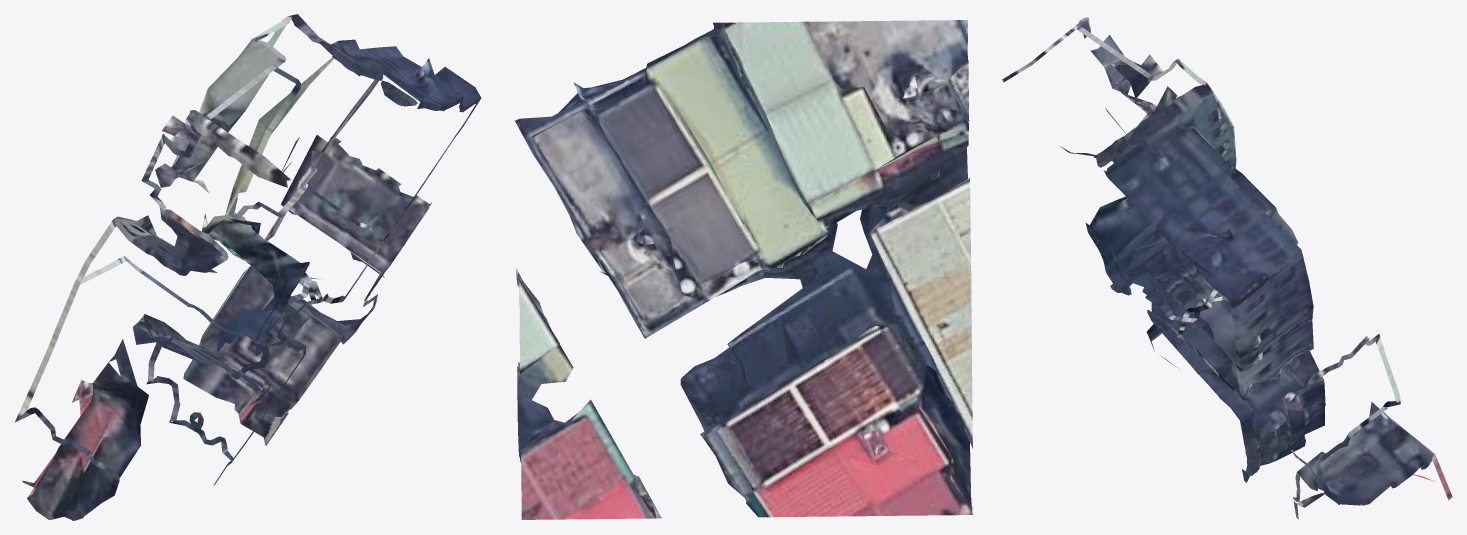
The picture shows the model from 3 angles, left to right: view 1: azimuth 30°, elevation 25°; view 2: azimuth 150°, elevation 25°; view 3: azimuth 270°, elevation 25°; orthographic projection. The views are drawn at different scales.
Size of the model in its own units: 40.51 by 39.82 by 38.27.
2 materials, 2 textured.
